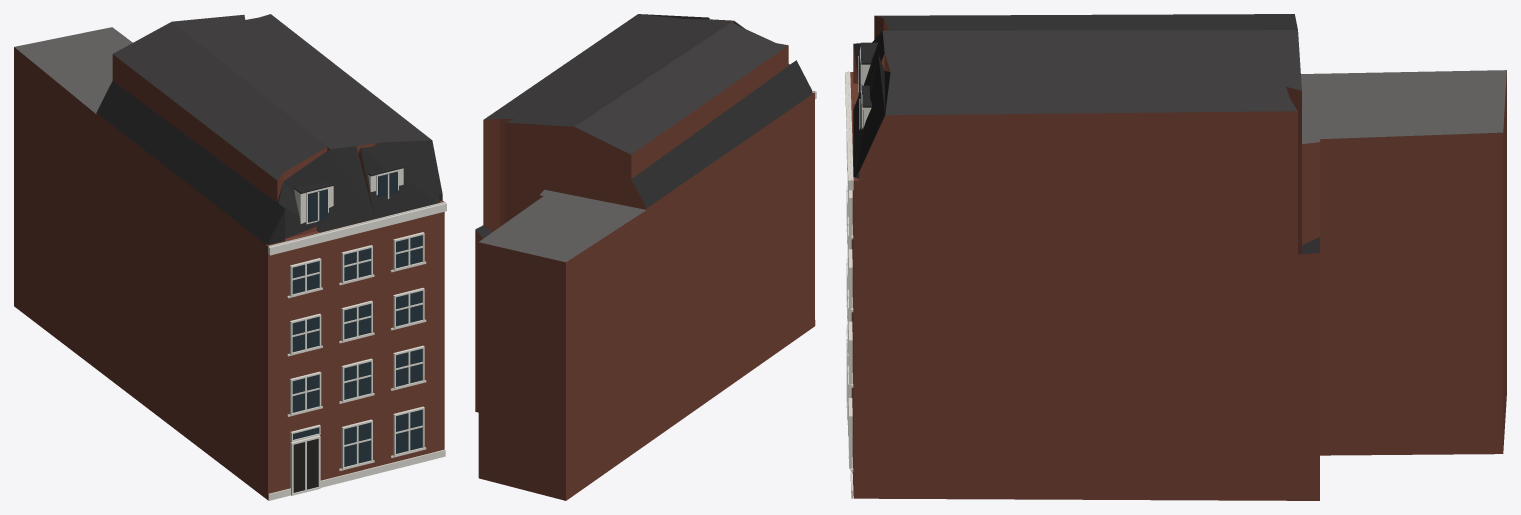
3 views of the same model, side by side, from view 1: azimuth 30°, elevation 25°; view 2: azimuth 150°, elevation 25°; view 3: azimuth 270°, elevation 25° (orthographic). The views are drawn at different scales.
Parts seen in each view (by area): view 1: spec-0363100012178218; view 2: spec-0363100012178218; view 3: spec-0363100012178218.
Boxes of the visible parts, box(x1,y1,x2,y2) form: spec-0363100012178218: box(14, 14, 446, 500); spec-0363100012178218: box(475, 14, 816, 500); spec-0363100012178218: box(845, 14, 1506, 500).
Size of the model in its own units: 8.73 by 15.04 by 21.98.
